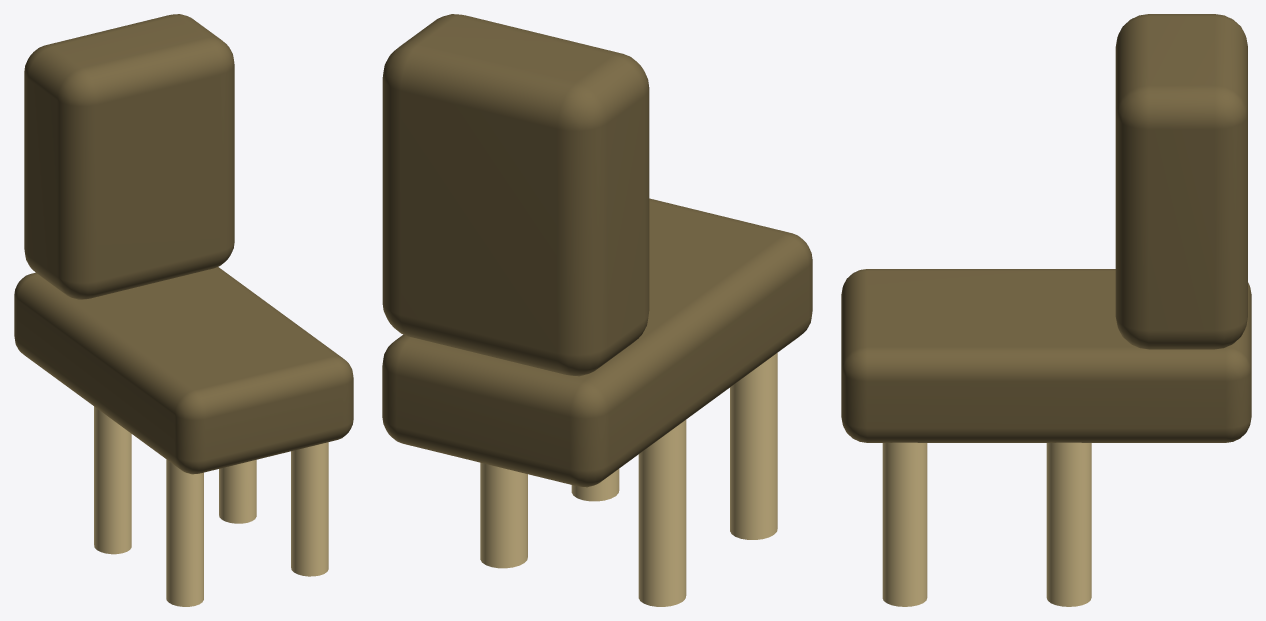
3 renders of one model, left to right at view 1: azimuth 30°, elevation 25°; view 2: azimuth 150°, elevation 25°; view 3: azimuth 270°, elevation 25°, orthographic. The views are drawn at different scales.
Visible parts, largest first — view 1: pCube202; view 2: pCube202; view 3: pCube202.
Boxes of the visible parts, left/top/right/bottom form: pCube202: left=14, top=14, right=353, bottom=606; pCube202: left=382, top=14, right=812, bottom=606; pCube202: left=841, top=14, right=1251, bottom=606.
Bounding box in the file's own units: 11.52 × 27.64 × 19.98.
